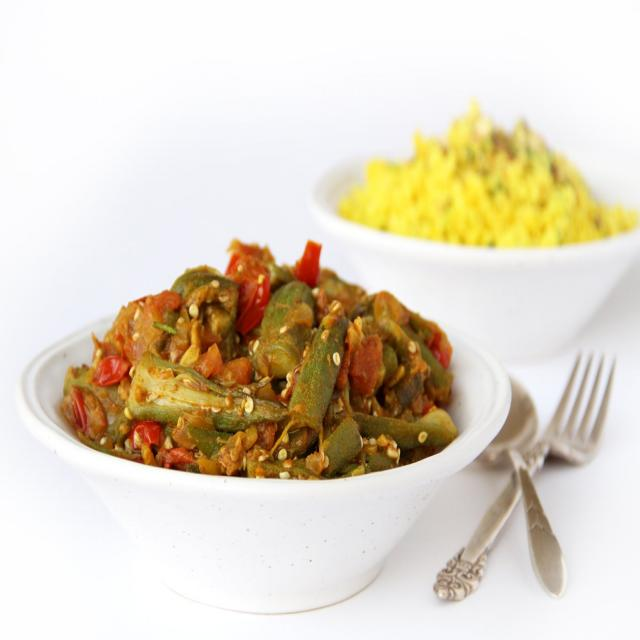Bhindi Masala: (57, 228, 468, 478)
